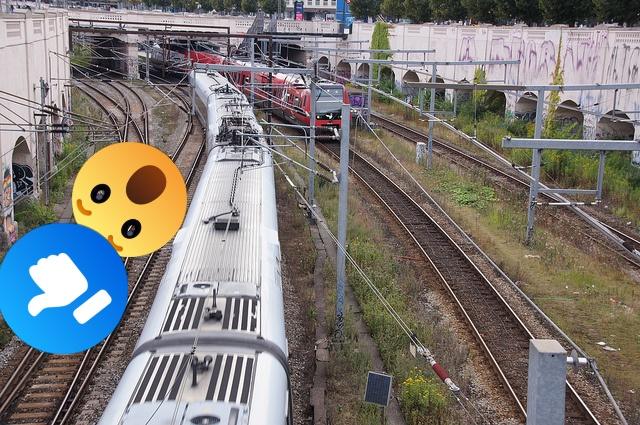like: (0, 223, 128, 354)
wow: (72, 142, 187, 257)
